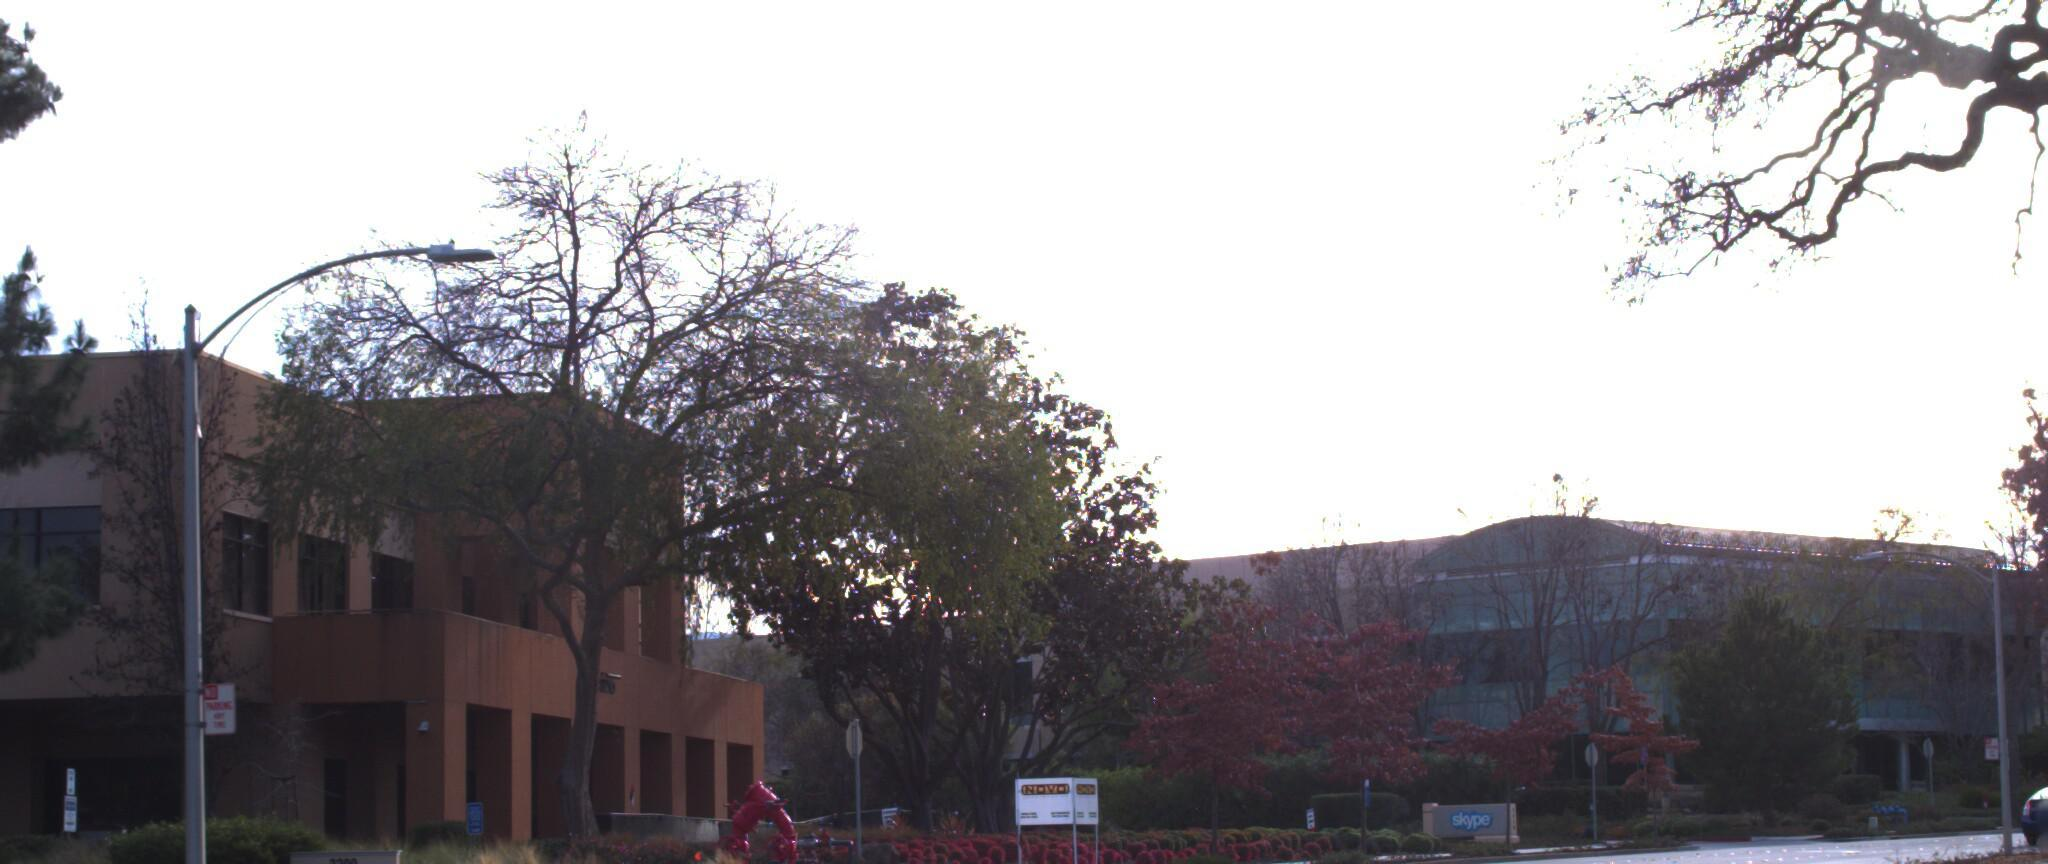car: (2000, 783, 2048, 855)
